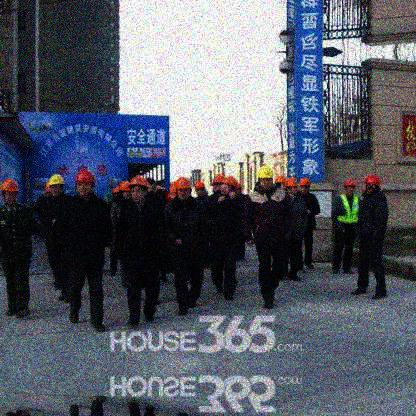helmet: (73, 169, 96, 196), (128, 176, 149, 202), (1, 178, 19, 204), (256, 166, 275, 189), (361, 172, 382, 192), (174, 177, 191, 200), (48, 174, 65, 197), (221, 176, 237, 195), (212, 174, 225, 194), (343, 178, 357, 195), (298, 177, 312, 194), (119, 181, 131, 200), (285, 177, 298, 194), (195, 181, 205, 197)
